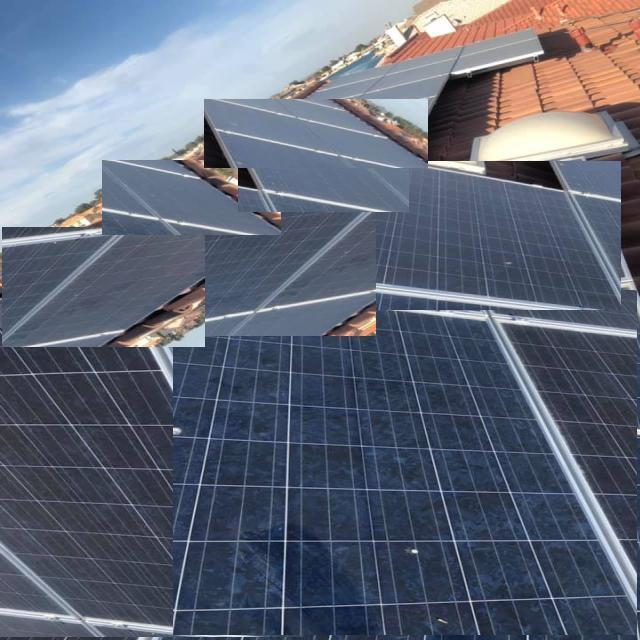Non Defective: (173, 291, 637, 635), (0, 329, 303, 637), (333, 161, 621, 310), (103, 196, 376, 336), (277, 31, 541, 124), (4, 228, 205, 347), (204, 100, 427, 168), (102, 161, 281, 235), (239, 136, 409, 212), (0, 351, 63, 407)
